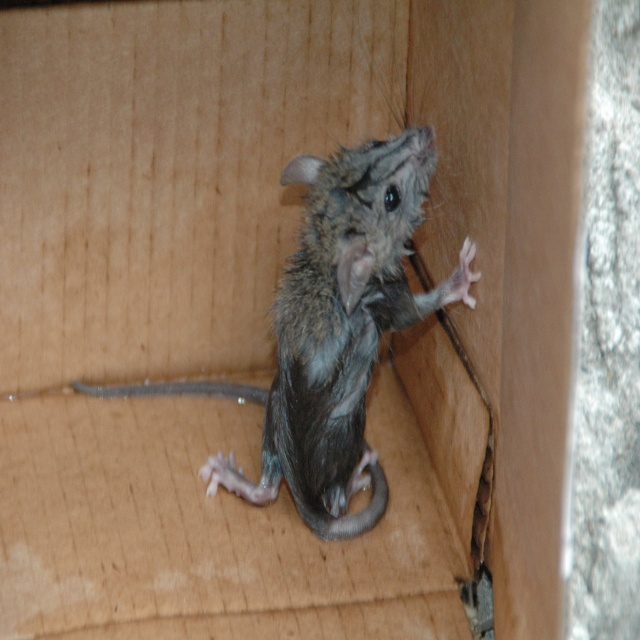Mouse: (76, 49, 478, 539)
